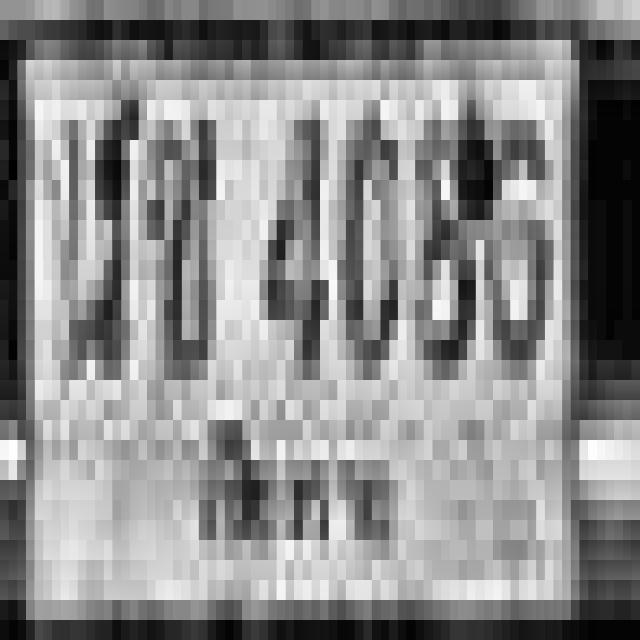license-plate: (18, 34, 583, 640)
